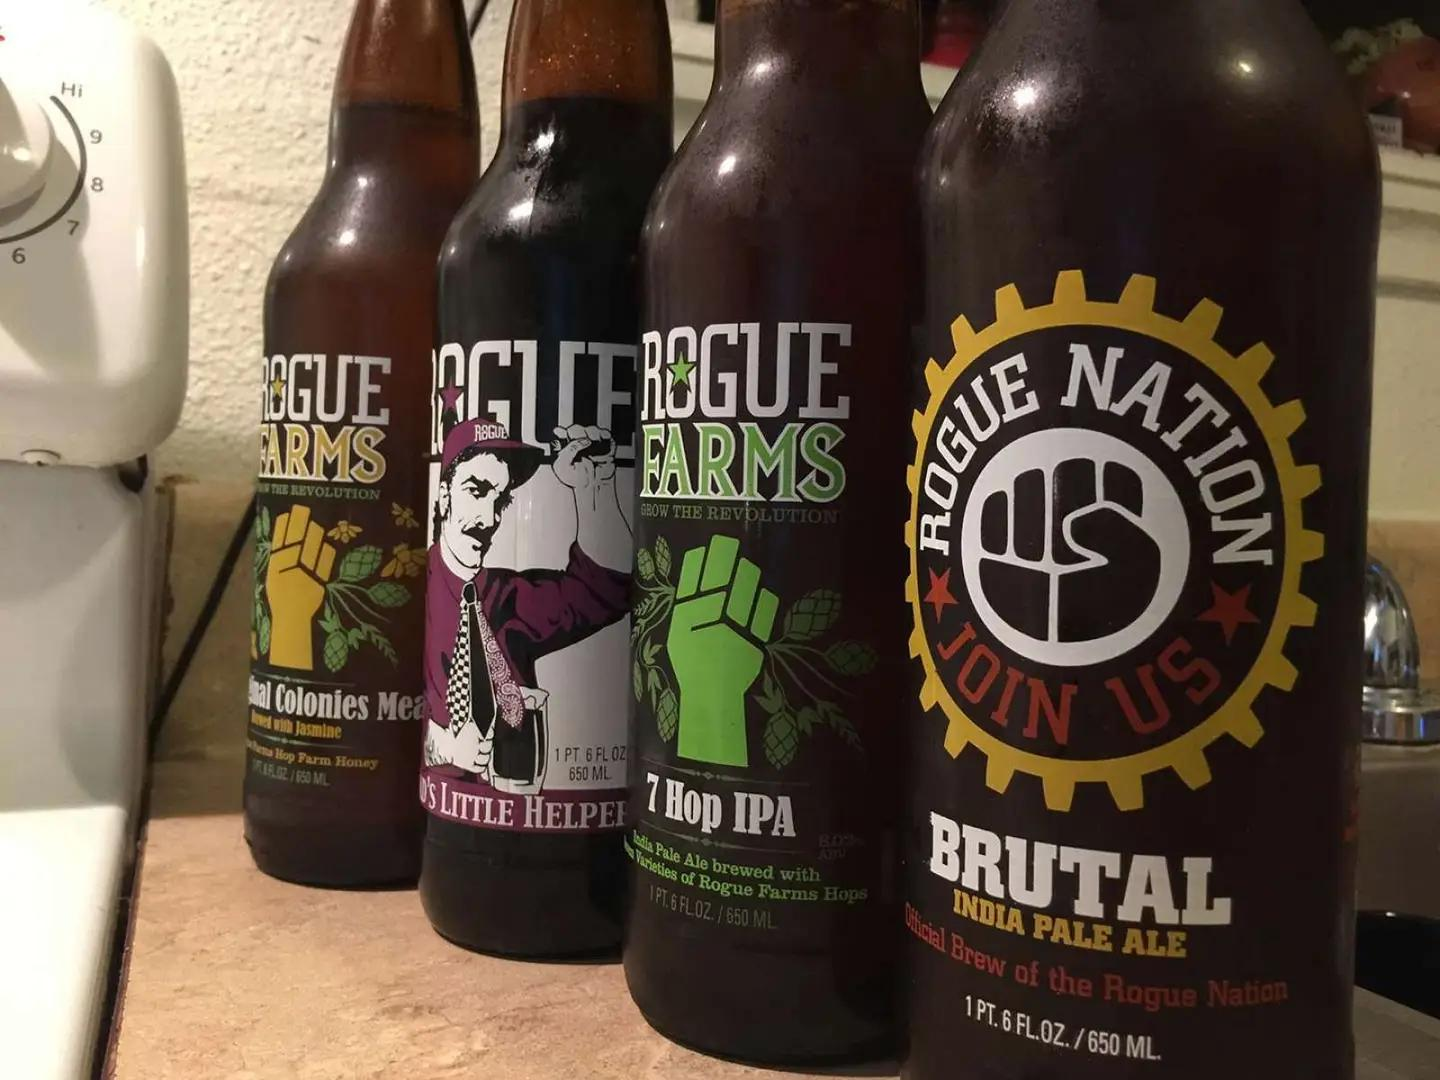glass: (895, 0, 1357, 1080), (642, 0, 926, 1069), (424, 0, 653, 963), (242, 0, 469, 901)
